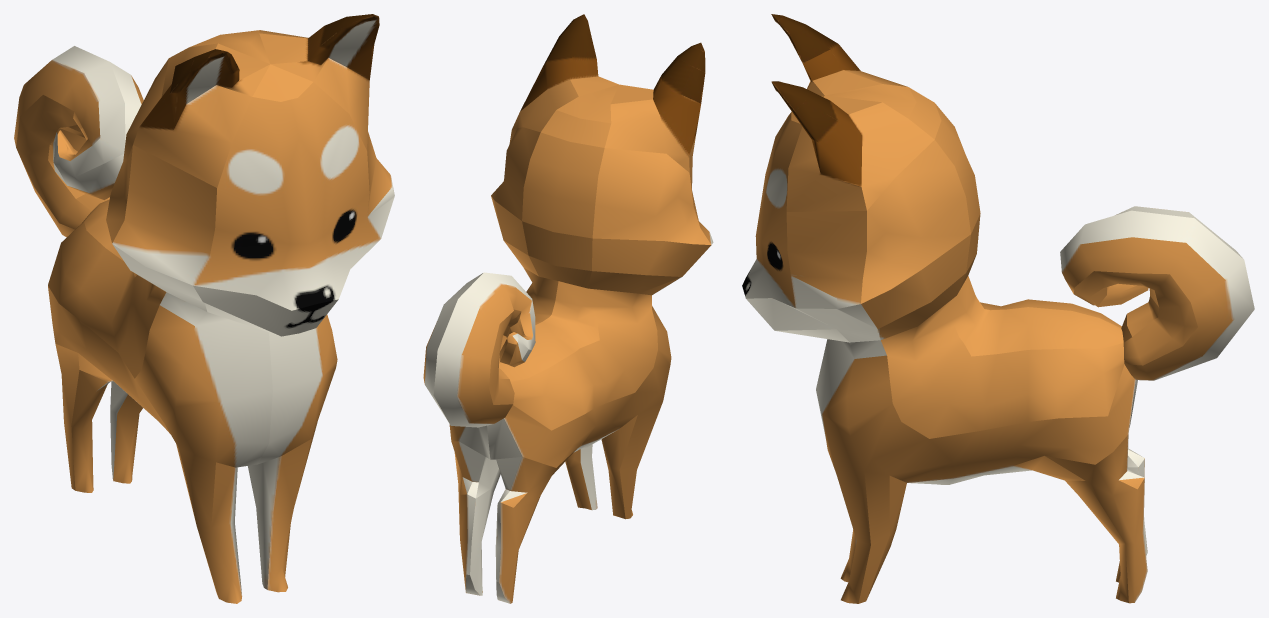
Rendered from tailWagging_frame1.obj.
3 views of the same model, side by side, from view 1: azimuth 30°, elevation 25°; view 2: azimuth 150°, elevation 25°; view 3: azimuth 270°, elevation 25° (orthographic). The views are drawn at different scales.
Parts seen in each view (by area): view 1: newRigging:BodzL1; view 2: newRigging:BodzL1; view 3: newRigging:BodzL1.
Boxes of the visible parts, bbox=[...] form: newRigging:BodzL1: bbox=[14, 14, 394, 603]; newRigging:BodzL1: bbox=[423, 14, 713, 603]; newRigging:BodzL1: bbox=[742, 14, 1254, 603].
Size of the model in its own units: 3.91 by 7.95 by 6.81.
1 material, 1 textured.
